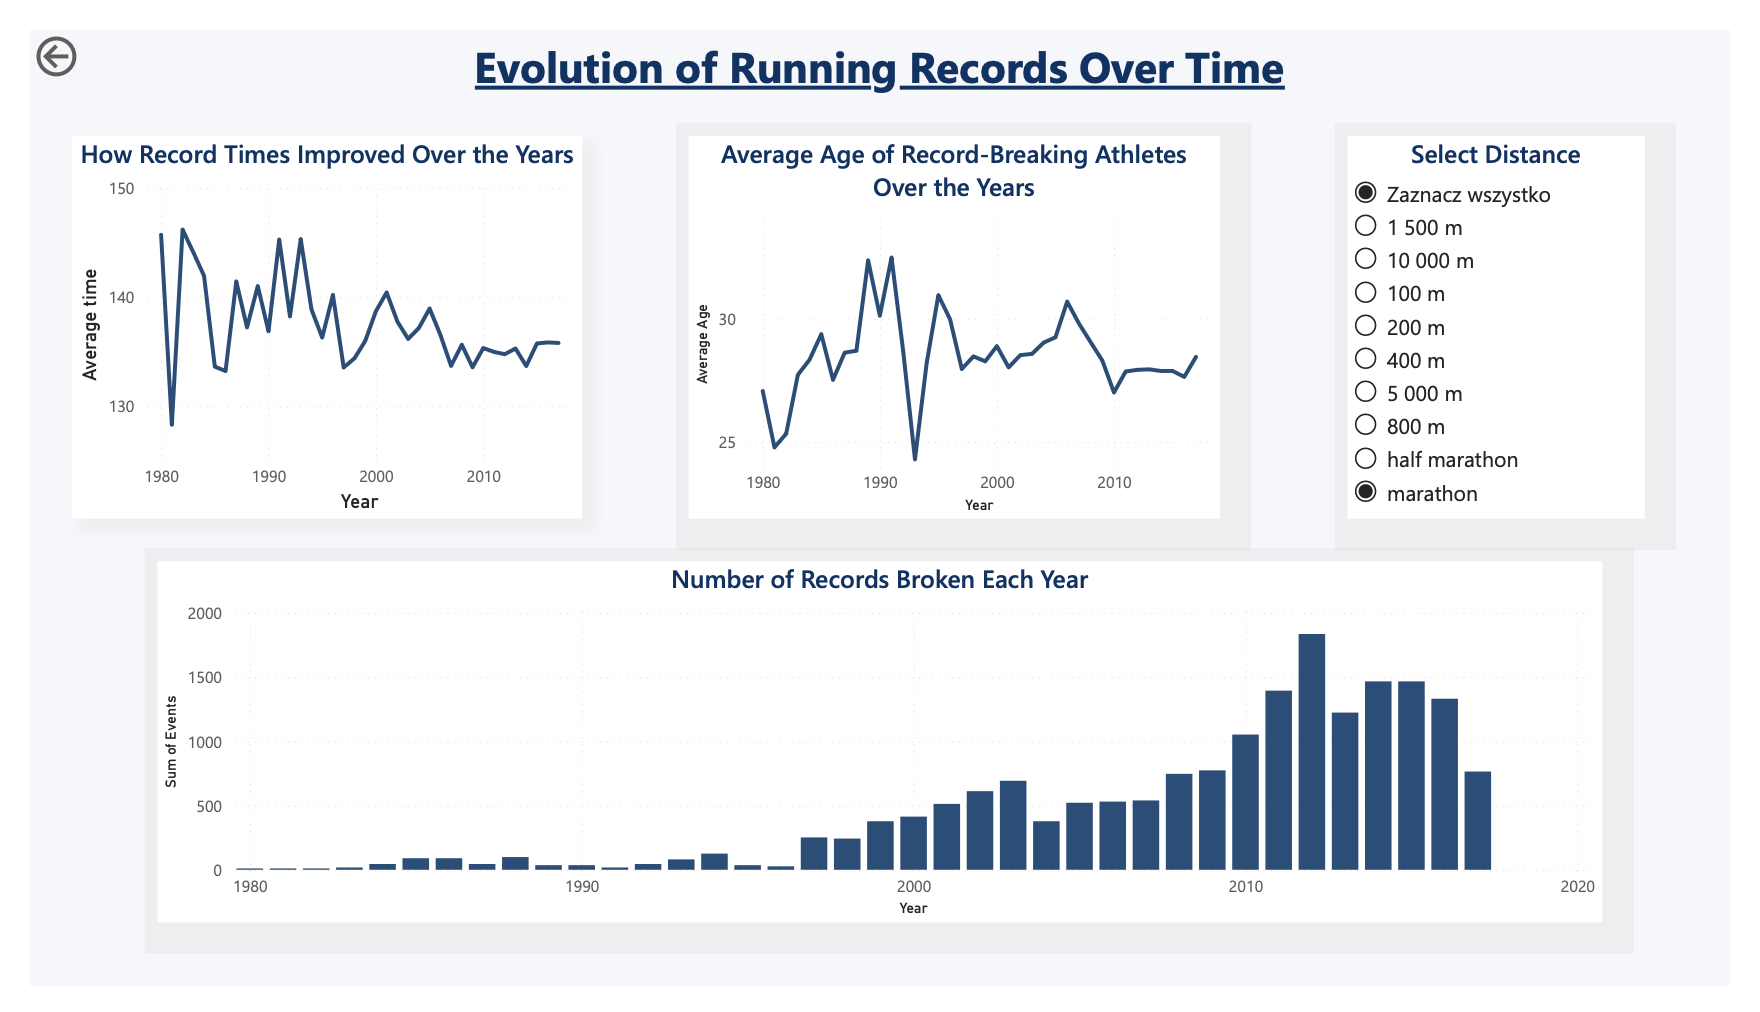

The page's visual inventory and layout, read from the dashboard file:
{"tool":"powerbi","page":{"name":"Strona 3","canvas":[1280,720],"ordinal":2},"visuals":[{"type":"textbox","box":[192,0,896,64],"z":0},{"type":"lineChart","title":"How Record Times Improved Over the Years","fields":{"Category":["data.Date.Odmiana.Hierarchia dat.Rok"],"Y":["Avg(data.Time_minutes)"]},"box":[32,80,384,288],"z":1000},{"type":"listSlicer","title":"Select Distance","fields":{"Values":["Event.EventName"]},"box":[992,80,224,288],"z":2000},{"type":"actionButton","box":[0,0,100,40],"z":3000},{"type":"lineChart","title":"Average Age of Record-Breaking Athletes Over the Years","fields":{"Category":["data.Date.Odmiana.Hierarchia dat.Rok"],"Y":["Avg(data.Age_at_record)"]},"box":[496,80,400,288],"z":3001},{"type":"columnChart","title":"Number of Records Broken Each Year","fields":{"Category":["data.Date.Odmiana.Hierarchia dat.Rok"],"Y":["Sum(data.Event)"]},"box":[96,400,1088,272],"z":3002}]}

Visuals, with their boxes in screenshot pixels (x1, y1, x2, y2), scaled from the page's 1280x720 canvas onto the 1760x1012 screenshot:
textbox: bbox=(264, 0, 1496, 90)
"How Record Times Improved Over the Years" lineChart: bbox=(44, 112, 572, 517)
"Select Distance" listSlicer: bbox=(1364, 112, 1672, 517)
actionButton: bbox=(0, 0, 138, 56)
"Average Age of Record-Breaking Athletes Over the Years" lineChart: bbox=(682, 112, 1232, 517)
"Number of Records Broken Each Year" columnChart: bbox=(132, 562, 1628, 945)
